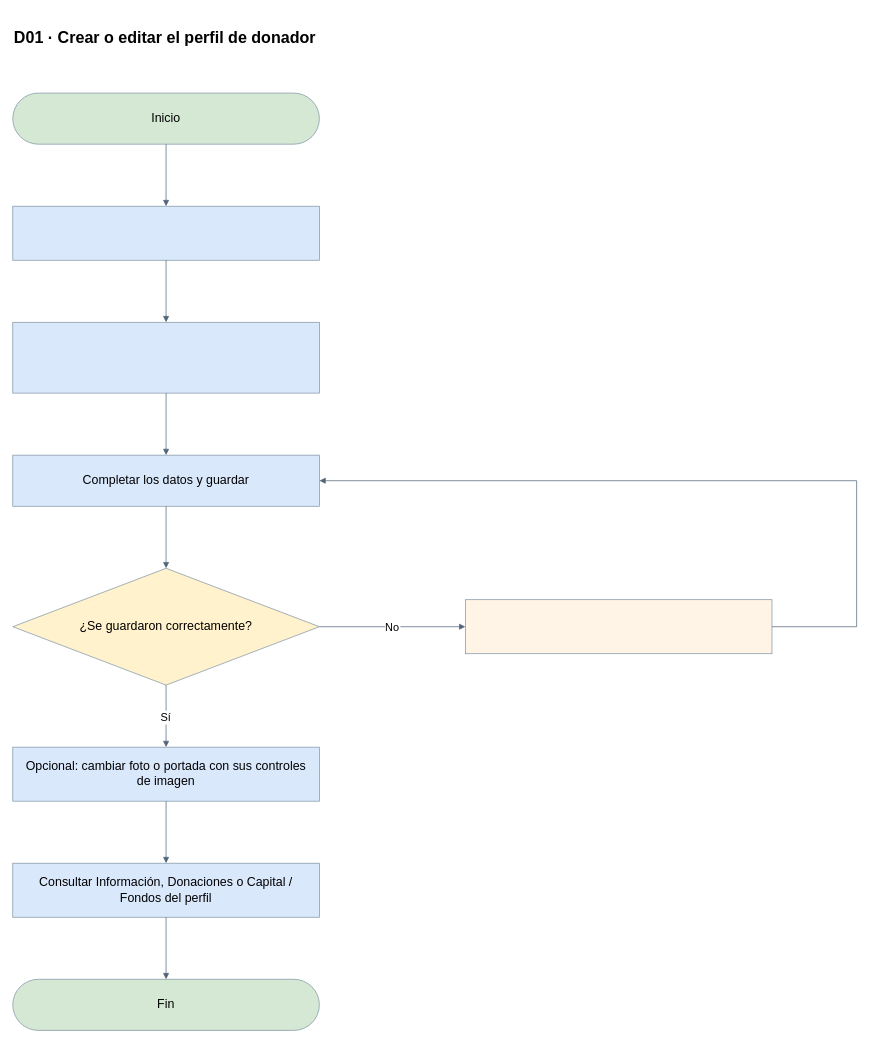
Image size: 887x1043. Some labels were removed from this diagram. Each missing label, with the box of its shape:
Abrir Mi Perfil; si no existe, se propone completar el perfil: (12, 205, 319, 260)
Corregir los campos indicados y volver a guardar: (465, 599, 772, 654)
Elegir Editar o una sección: datos básicos, fiscales, ubicación o preferencias: (12, 322, 319, 393)
